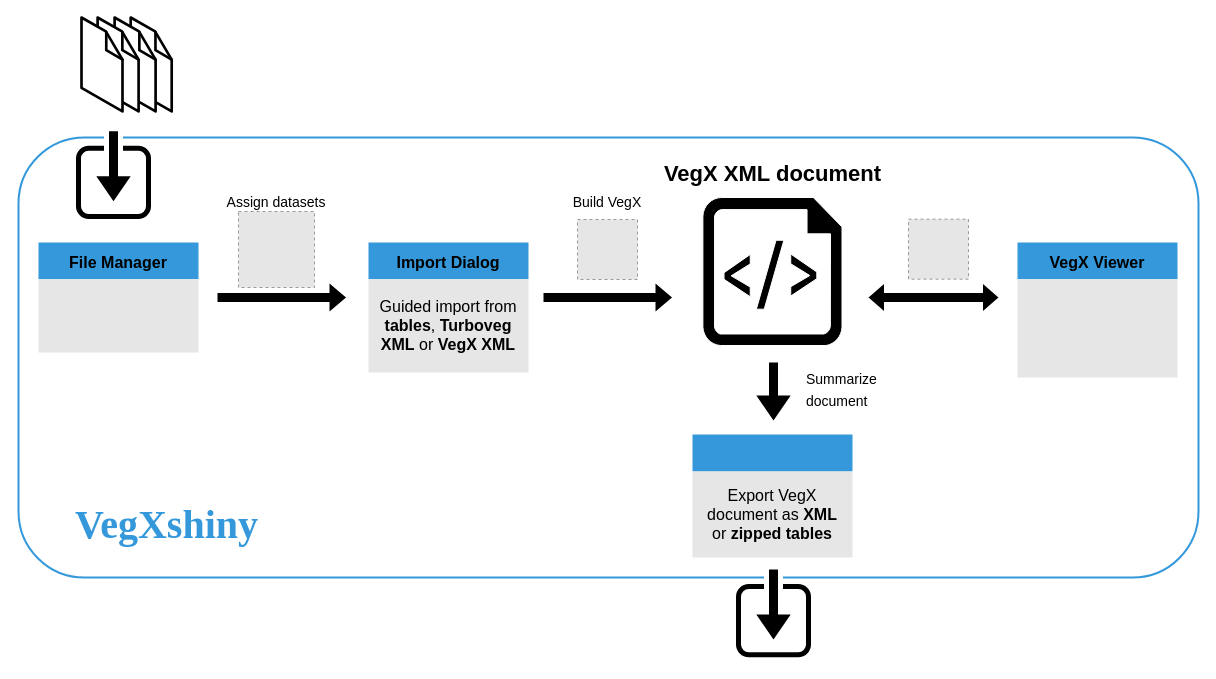
This 1216x679 diagram has some shape labels left out. Grey dashed boxes stand in for pictures. The centre of each missing label's shape, as x and y in pixels:
"Upload, view & edit input files" goes at [118,315].
"VegX Export" goes at [772,452].
"View, edit & validate current VegX document" goes at [1097,328].
